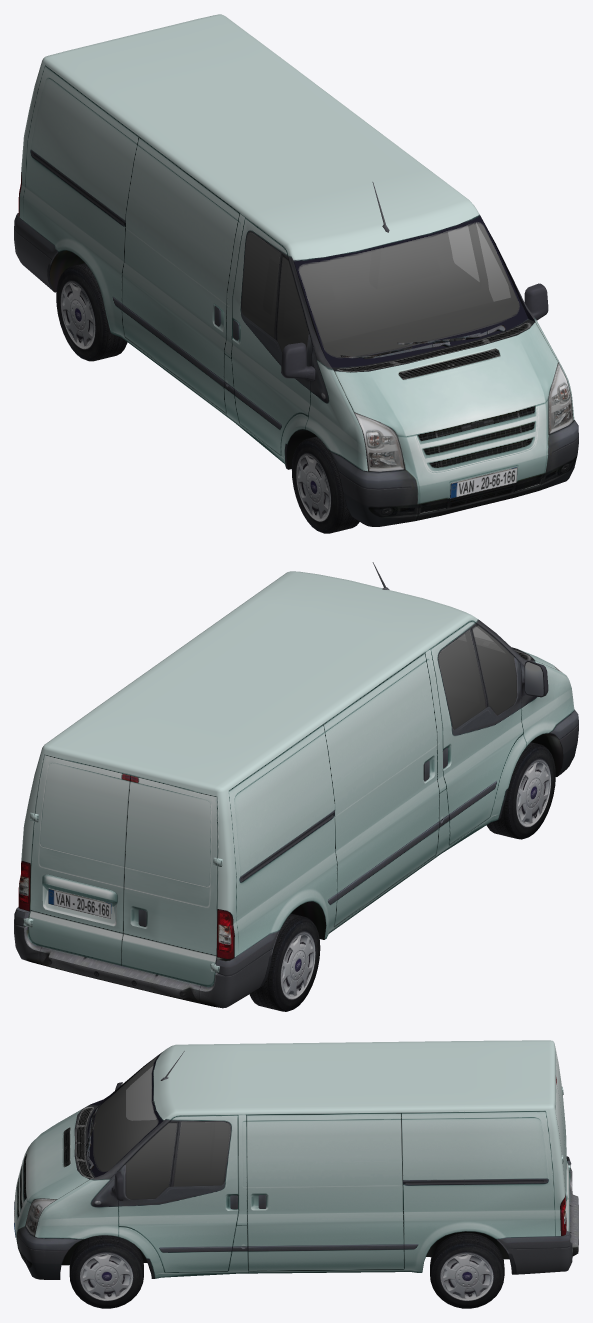
The model's file is van.FBX.
The picture shows the model from 3 angles, top to bottom: view 1: azimuth 30°, elevation 25°; view 2: azimuth 150°, elevation 25°; view 3: azimuth 270°, elevation 25°; orthographic projection. The views are drawn at different scales.
Visible parts, largest first — view 1: van03a_.005, van03a_gla_.005, van03a_wheel04_.005, van03a_wheel02_.005; view 2: van03a_.005, van03a_gla_.005, van03a_wheel04_.005, van03a_wheel02_.005; view 3: van03a_.005, van03a_gla_.005, van03a_wheel03_.005, van03a_wheel01_.005.
Boxes of the visible parts, x1,y1,x2,y2 form: van03a_.005: (14, 14, 578, 526); van03a_gla_.005: (241, 223, 519, 357); van03a_wheel04_.005: (56, 263, 127, 361); van03a_wheel02_.005: (291, 436, 359, 533); van03a_.005: (14, 562, 578, 1008); van03a_gla_.005: (438, 625, 517, 729); van03a_wheel04_.005: (249, 913, 320, 1011); van03a_wheel02_.005: (486, 742, 555, 839); van03a_.005: (14, 1040, 578, 1279); van03a_gla_.005: (93, 1056, 230, 1199); van03a_wheel03_.005: (430, 1233, 504, 1308); van03a_wheel01_.005: (69, 1235, 143, 1308).
Size of the model in its own units: 2.19 by 2.25 by 5.29.
